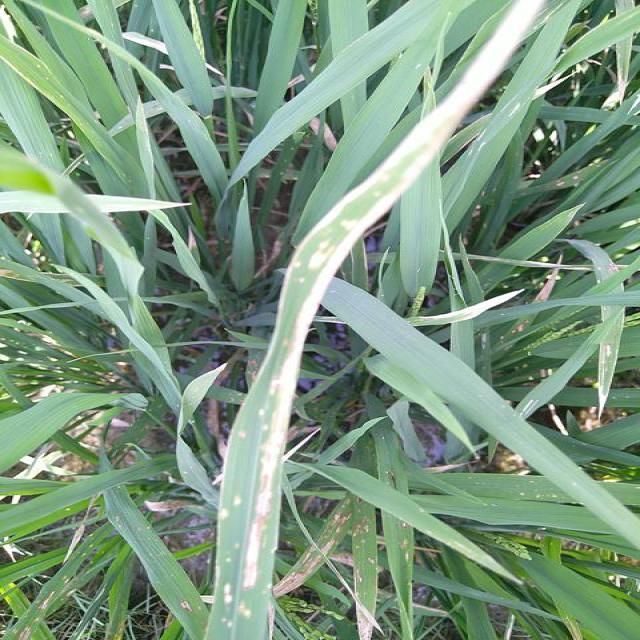Leaf Blight: (215, 0, 548, 639), (76, 195, 191, 219), (0, 191, 69, 214)
